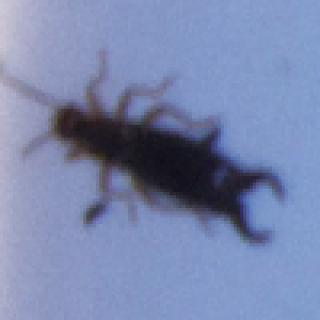earwig: (1, 44, 287, 251)
